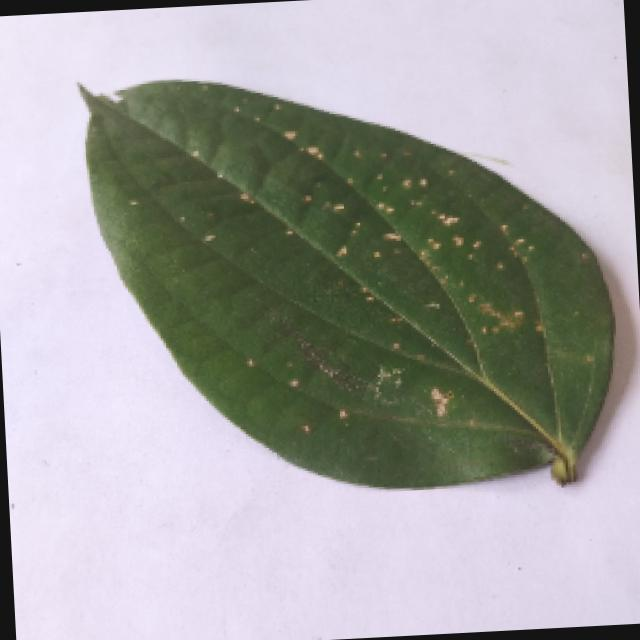pollu-disease: (29, 43, 640, 526)
